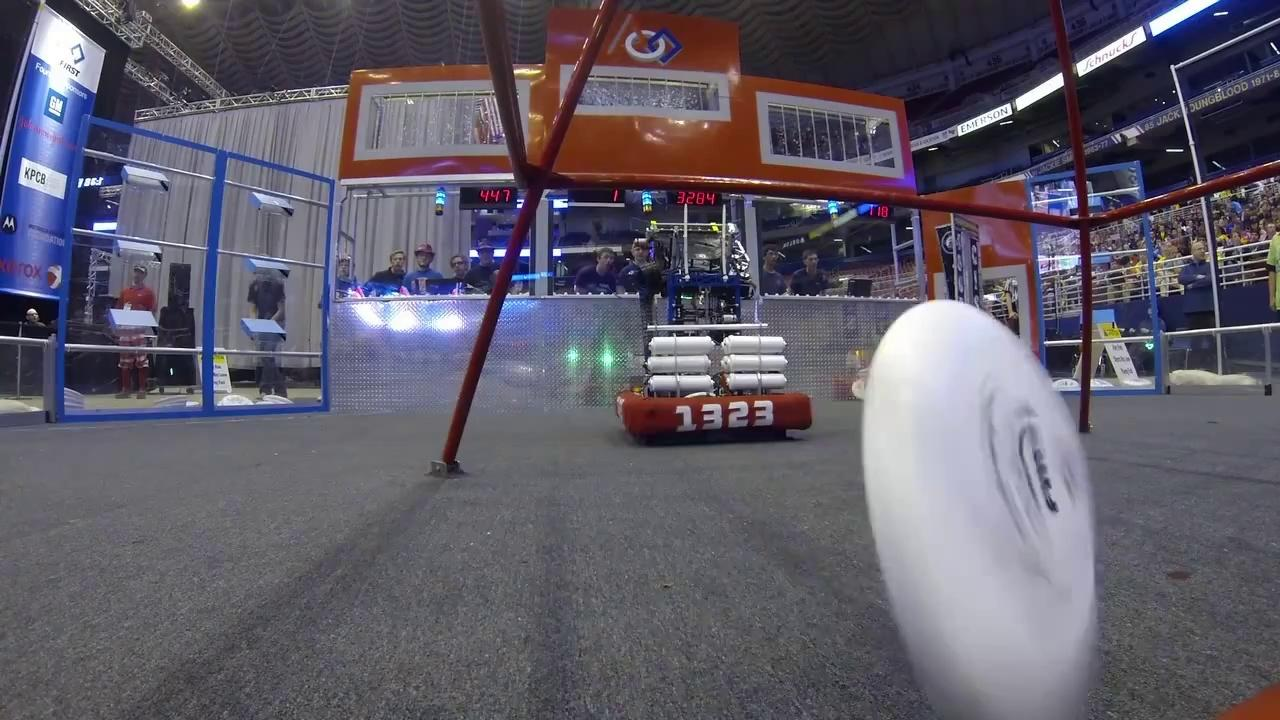robot: (612, 229, 813, 444)
